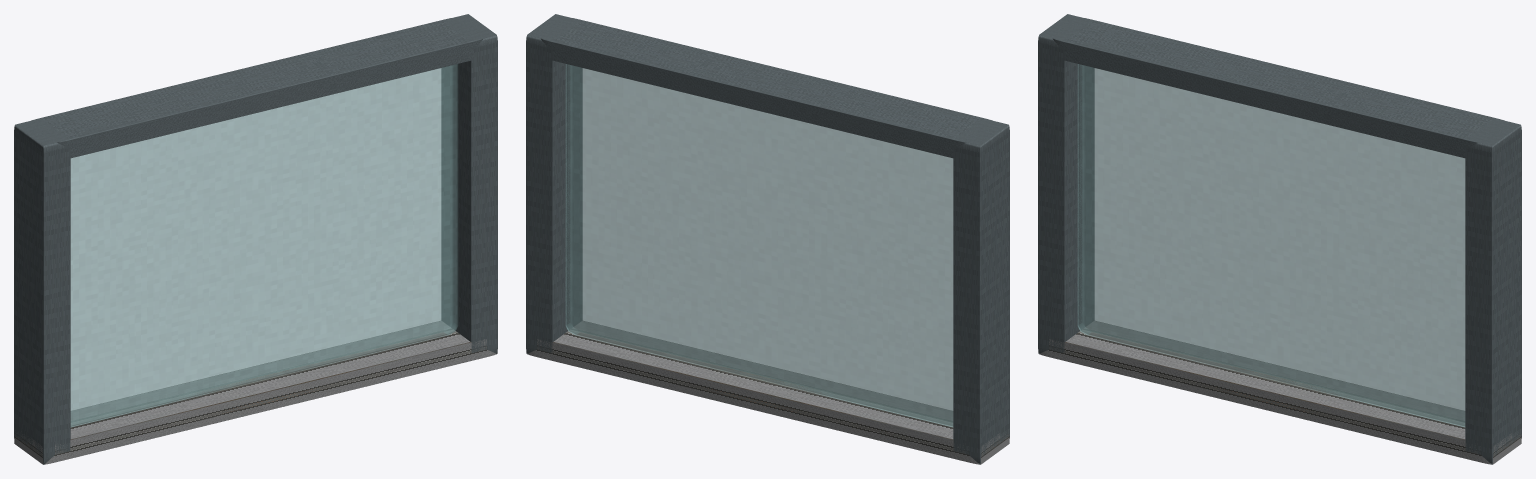
The model's file is observation.glb.
3 views of the same model, side by side, from view 1: azimuth 30°, elevation 25°; view 2: azimuth 150°, elevation 25°; view 3: azimuth 330°, elevation 25° (orthographic).
Parts seen in each view (by area): view 1: glazing, jamb (×2), sill, head; view 2: glazing, jamb (×2), sill, head; view 3: glazing, jamb (×2), sill, head.
Boxes of the visible parts, <box> form: glazing: <box>70,64,458,427</box>; jamb (×2): <box>14,14,497,464</box>; sill: <box>14,321,497,464</box>; head: <box>31,18,482,158</box>; glazing: <box>565,64,953,427</box>; jamb (×2): <box>526,14,1009,464</box>; sill: <box>526,321,1009,464</box>; head: <box>541,18,992,158</box>; glazing: <box>1077,64,1465,427</box>; jamb (×2): <box>1038,14,1521,464</box>; sill: <box>1038,321,1521,464</box>; head: <box>1053,18,1504,158</box>.
Size of the model in its own units: 1.4 by 0.94 by 0.16.
3 materials, 3 textured.
